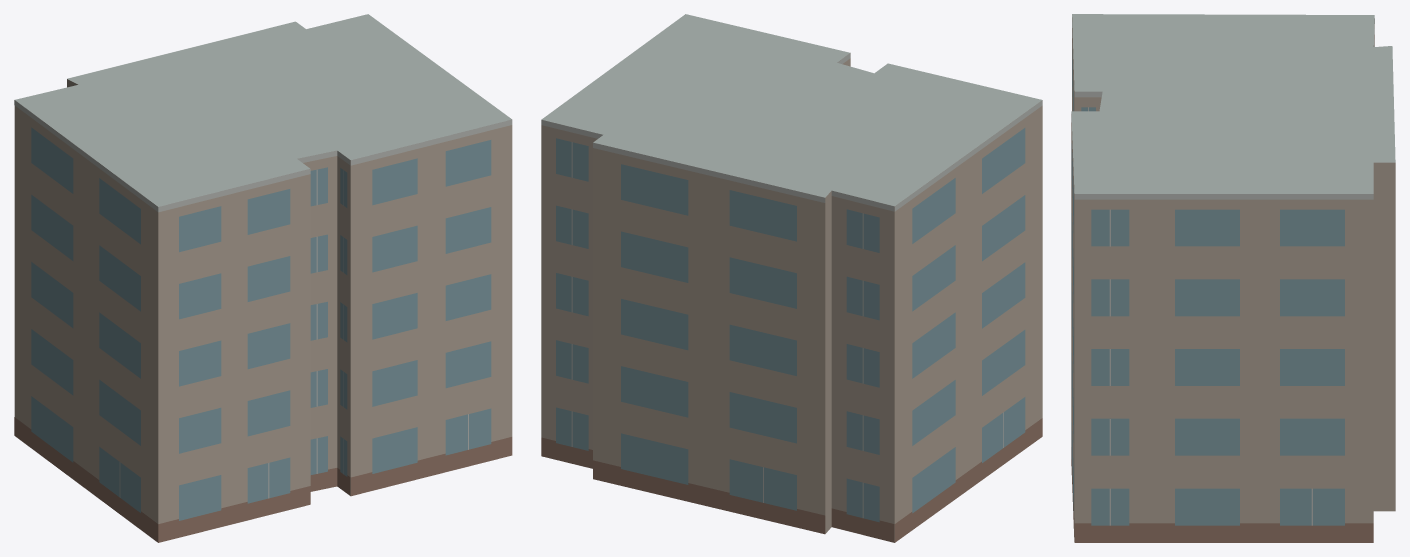
File: survey-upis-32828856.glb
3 renders of one model, left to right at view 1: azimuth 30°, elevation 25°; view 2: azimuth 150°, elevation 25°; view 3: azimuth 270°, elevation 25°, orthographic. The views are drawn at different scales.
Parts seen in each view (by area): view 1: survey-upis-32828856.tmp; view 2: survey-upis-32828856.tmp; view 3: survey-upis-32828856.tmp.
Part boxes in pixels (box(x1,y1,x2,y2)): survey-upis-32828856.tmp: box(14, 14, 512, 542); survey-upis-32828856.tmp: box(541, 14, 1042, 542); survey-upis-32828856.tmp: box(1071, 14, 1395, 542).
Size of the model in its own units: 16.89 by 15.25 by 12.86.
